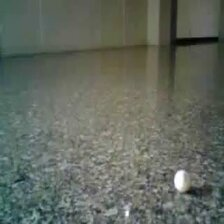w: (173, 169, 193, 193)
